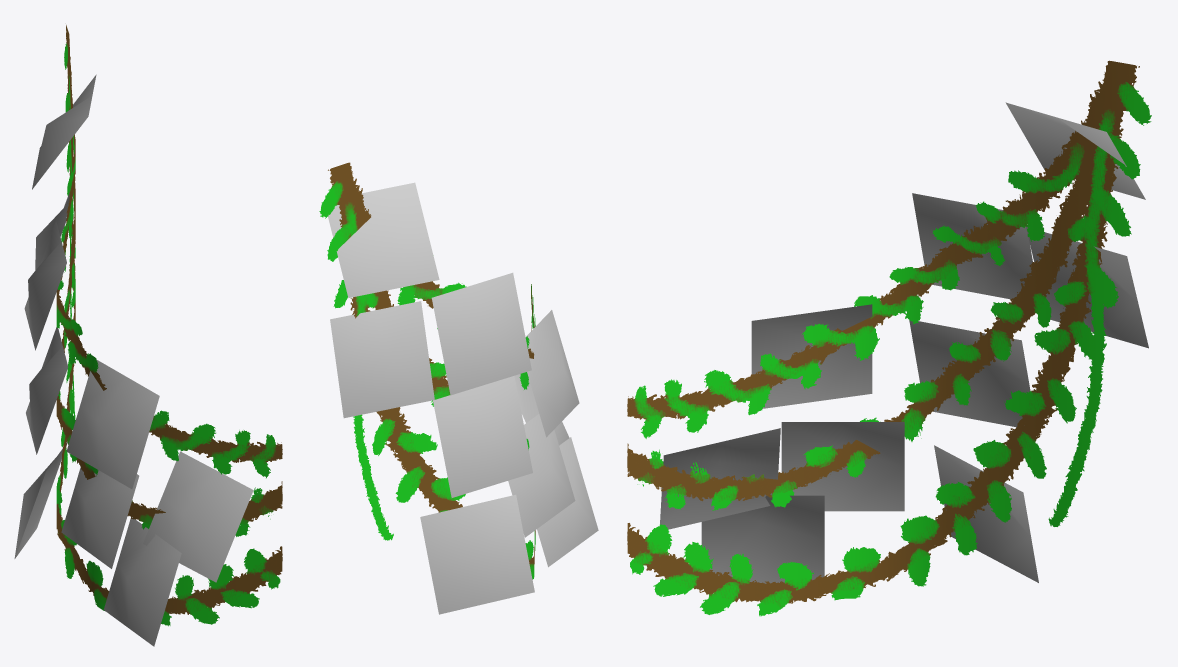
The model's file is vine02.fbx.
3 views of the same model, side by side, from view 1: azimuth 30°, elevation 25°; view 2: azimuth 150°, elevation 25°; view 3: azimuth 270°, elevation 25° (orthographic). The views are drawn at different scales.
Visible parts, largest first — view 1: vine02, pPlane53, pPlane59, pPlane57, pPlane58, pPlane60, pPlane55, pPlane54, pPlane56, pPlane52; view 2: vine02, pPlane56, pPlane52, pPlane60, pPlane55, pPlane54, pPlane58, pPlane59, pPlane57, pPlane53; view 3: vine02, pPlane58, pPlane57, pPlane59, pPlane55, pPlane60, pPlane53, pPlane56, pPlane52, pPlane54.
Part boxes in pixels (x1,y1,x2,y2): vine02: (56, 25, 282, 626); pPlane53: (143, 451, 253, 582); pPlane59: (66, 359, 159, 488); pPlane57: (103, 517, 181, 646); pPlane58: (61, 467, 139, 568); pPlane60: (24, 220, 66, 350); pPlane55: (26, 327, 68, 454); pPlane54: (32, 74, 96, 189); pPlane56: (14, 442, 67, 558); pPlane52: (35, 193, 69, 269); vine02: (319, 162, 535, 579); pPlane56: (420, 494, 534, 614); pPlane52: (330, 301, 434, 418); pPlane60: (431, 272, 531, 395); pPlane55: (433, 376, 532, 497); pPlane54: (328, 182, 439, 297); pPlane58: (508, 414, 575, 537); pPlane59: (525, 310, 579, 437); pPlane57: (537, 437, 598, 567); pPlane53: (514, 374, 569, 445); vine02: (627, 60, 1151, 616); pPlane58: (781, 422, 904, 511); pPlane57: (701, 495, 824, 583); pPlane59: (751, 304, 872, 408); pPlane55: (909, 320, 1030, 427); pPlane60: (912, 193, 1032, 299); pPlane53: (660, 428, 780, 529); pPlane56: (934, 445, 1038, 582); pPlane52: (1026, 226, 1148, 348); pPlane54: (1005, 102, 1145, 199).
Bounding box in the file's own units: 1.18 × 3.68 × 3.06.
